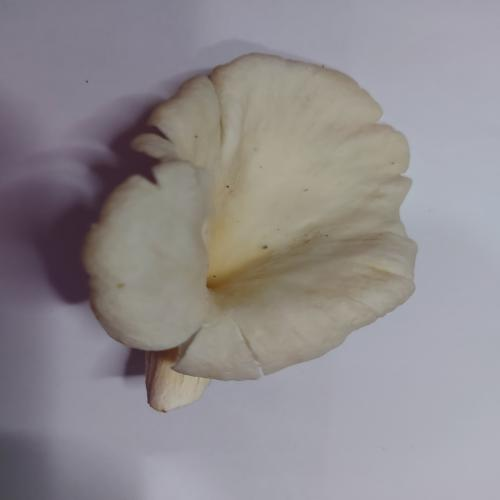Oyster Mushroom: (81, 51, 419, 413)
